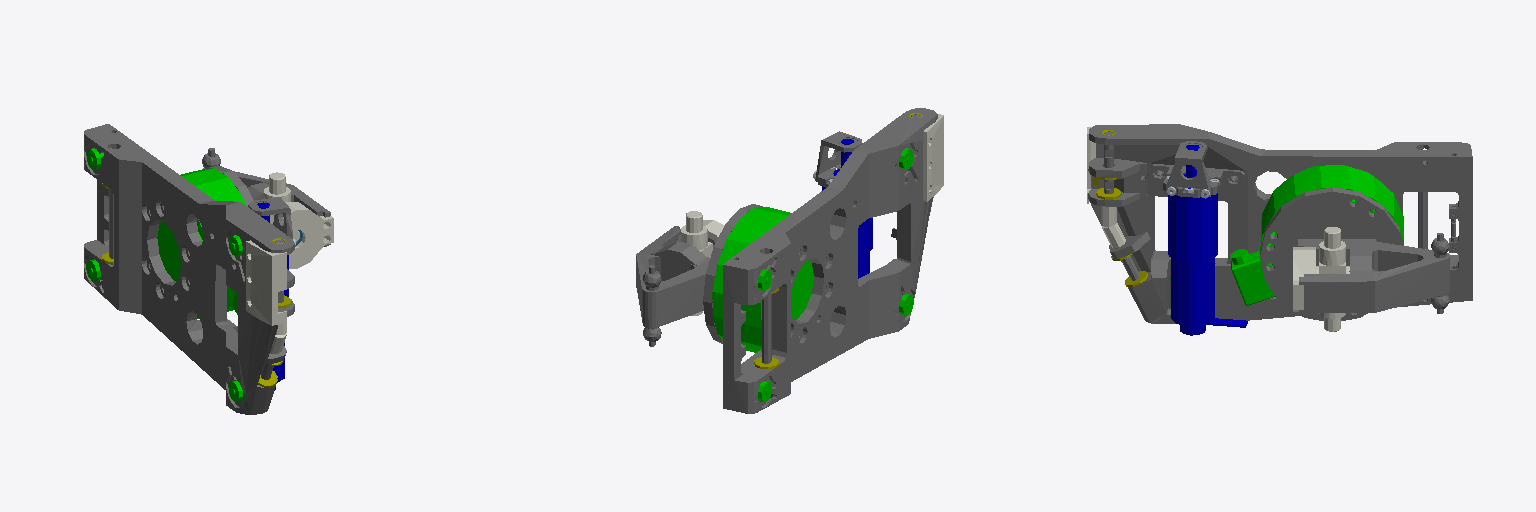
3 views of the same model, side by side, from view 1: azimuth 30°, elevation 25°; view 2: azimuth 150°, elevation 25°; view 3: azimuth 270°, elevation 25° (orthographic).
Size of the model in its own units: 0.1144 by 0.12 by 0.2255.
1 materials, 1 textured.